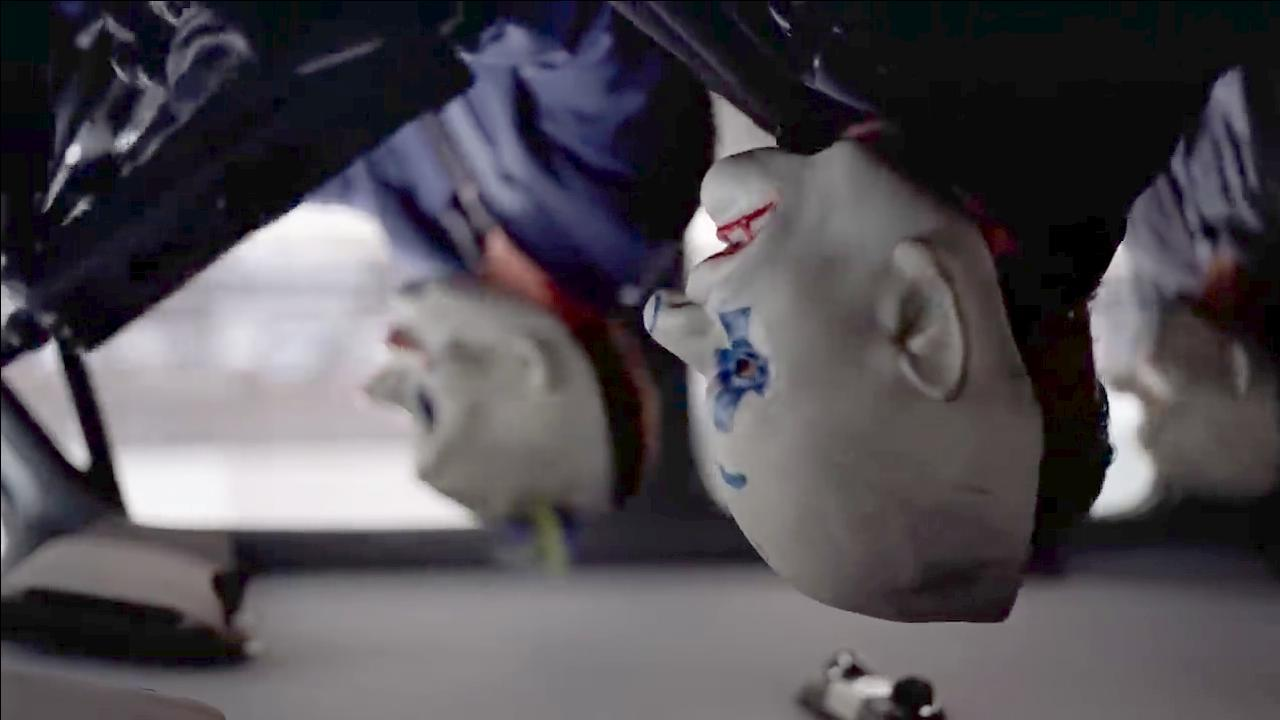gun: (0, 25, 479, 368)
